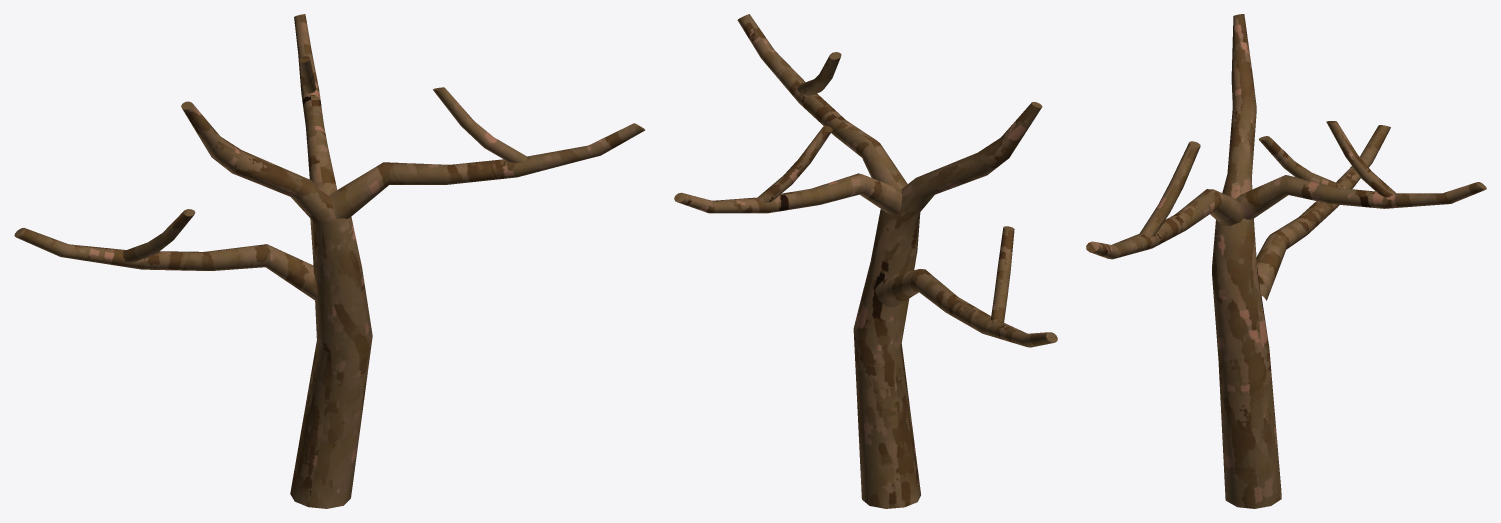
Rendered from quaternius-textured-stylized-trees-dead-tree-9.glb.
3 views of the same model, side by side, from view 1: azimuth 30°, elevation 25°; view 2: azimuth 150°, elevation 25°; view 3: azimuth 270°, elevation 25° (orthographic). The views are drawn at different scales.
Visible parts, largest first — view 1: DeadTree_9; view 2: DeadTree_9; view 3: DeadTree_9.
Part boxes in pixels (box(x1,y1,x2,y2)): DeadTree_9: box(14, 14, 644, 508); DeadTree_9: box(674, 14, 1057, 508); DeadTree_9: box(1086, 14, 1486, 508).
Bounding box in the file's own units: 5.09 × 4.42 × 3.85.
Materials: 1 (1 with a texture image).
